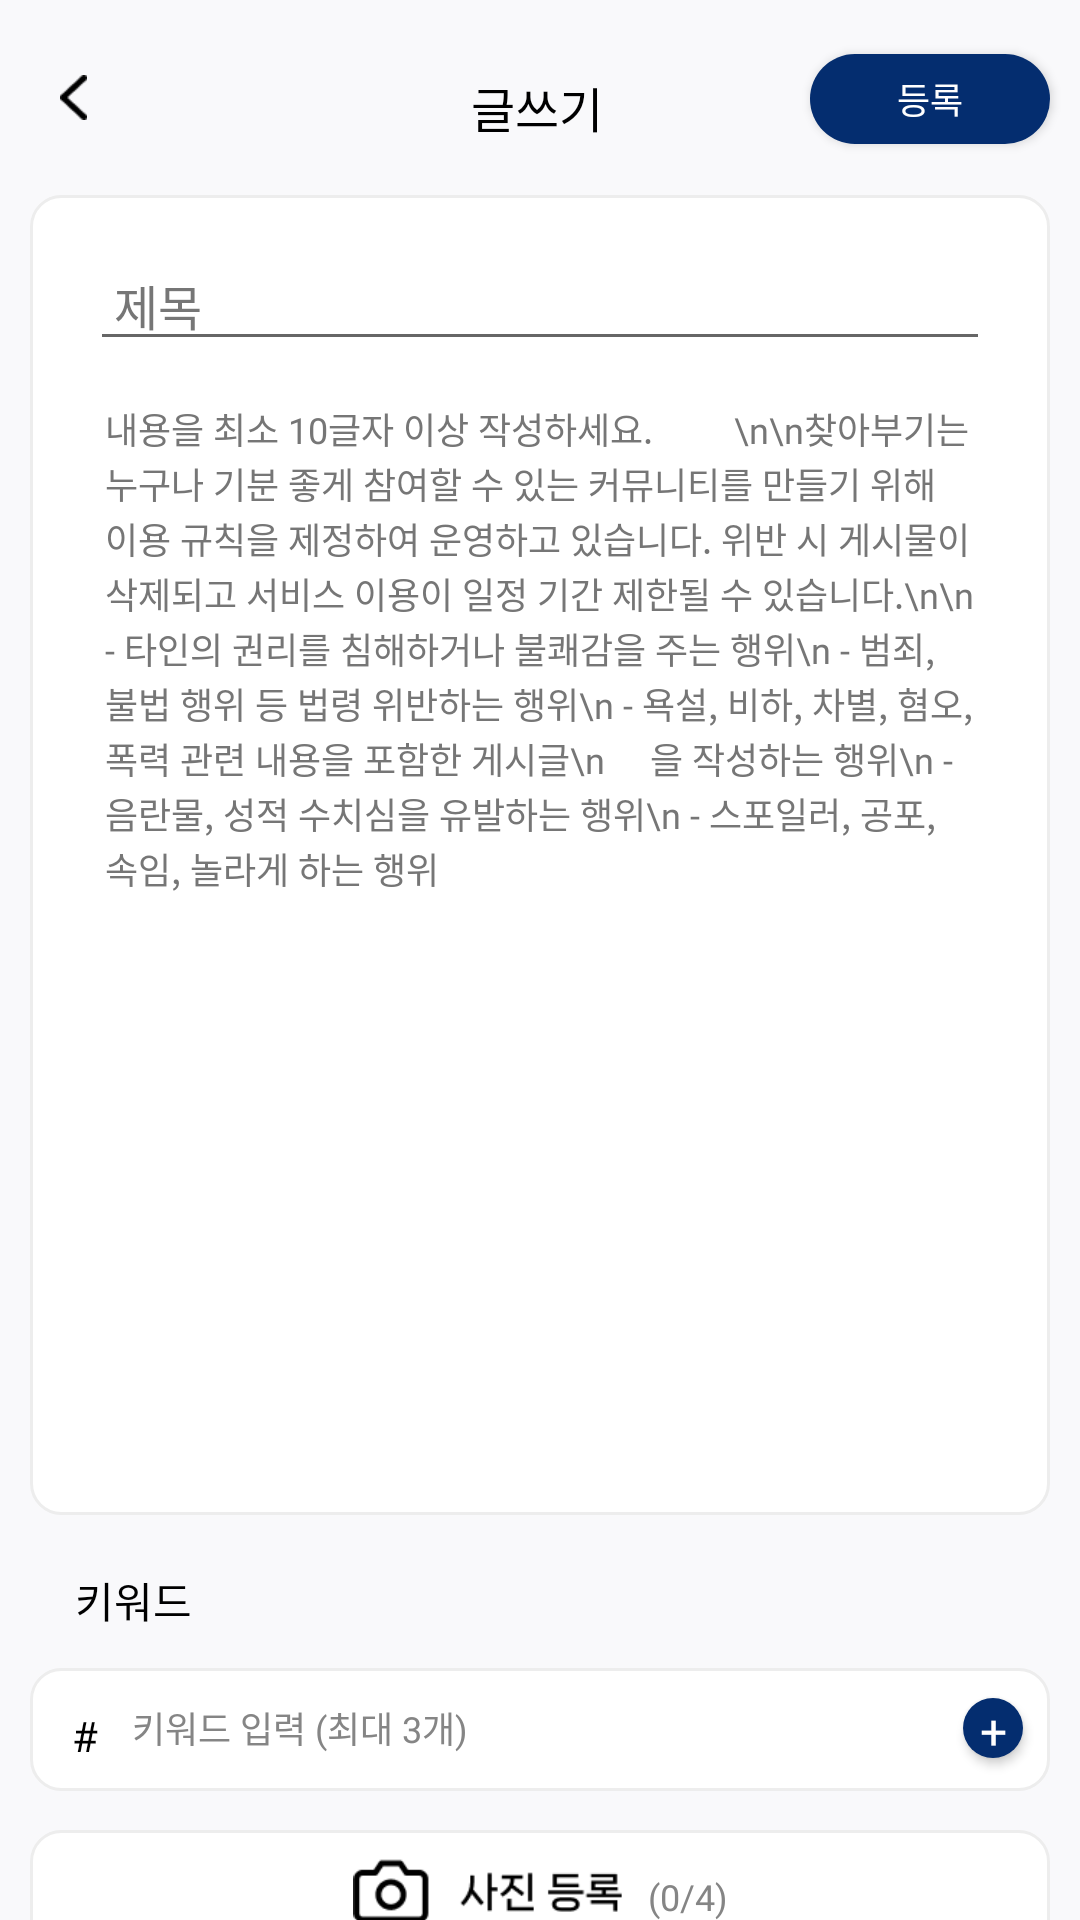

Named icons in this screenshot (1080x1920) and their centers, (x=x, y=y):
back: (x=73, y=97)
